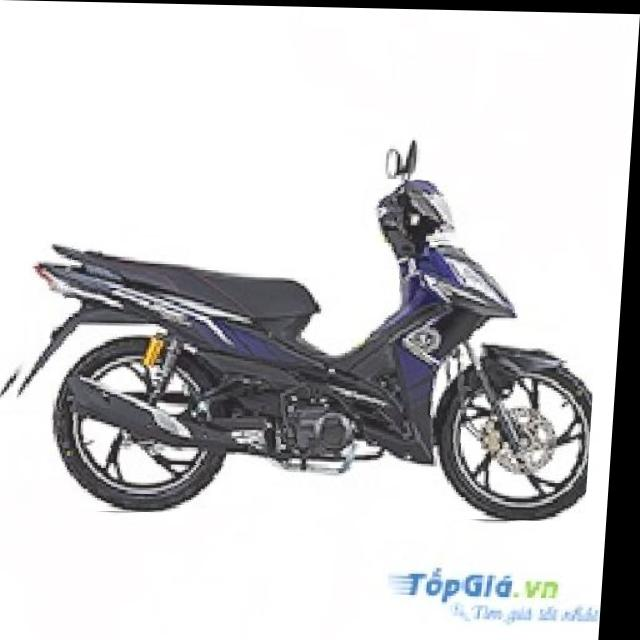All: (0, 168, 609, 519)
Head: (373, 178, 465, 244)
Tail: (33, 237, 108, 300)
